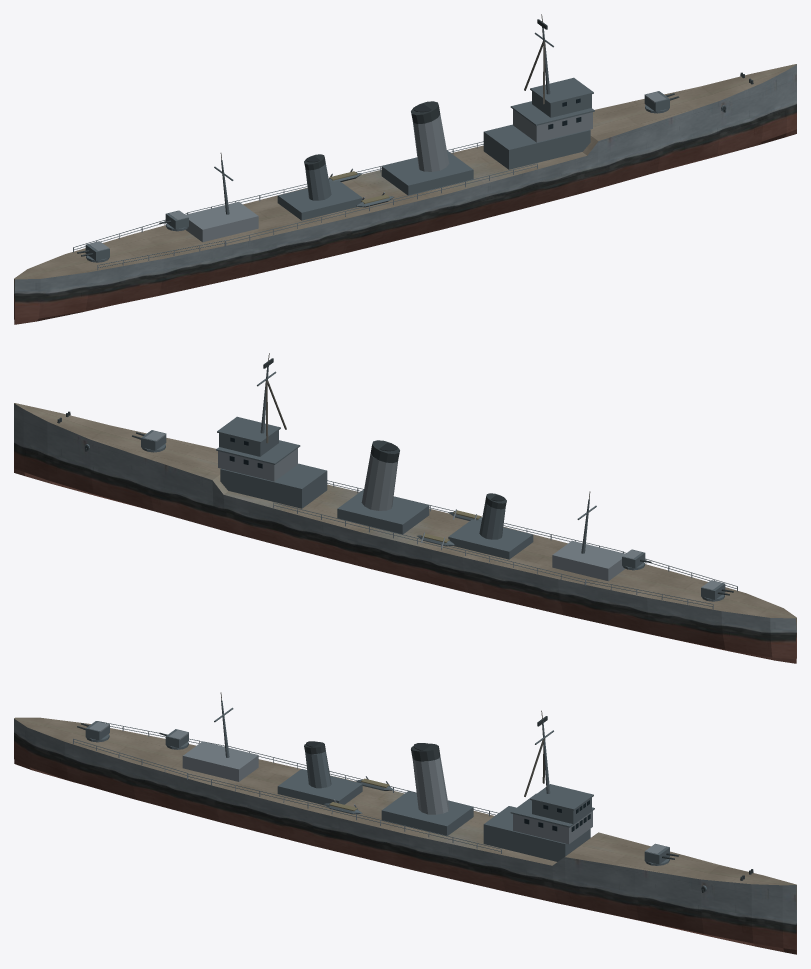
File: samidare.glb
3 views of the same model, one above another, from view 1: azimuth 30°, elevation 25°; view 2: azimuth 150°, elevation 25°; view 3: azimuth 330°, elevation 25° (orthographic).
Parts seen in each view (by area): view 1: hullPaint, deckPaint, shade, steel, dark; view 2: hullPaint, deckPaint, shade, steel, dark; view 3: hullPaint, deckPaint, shade, steel, dark.
Boxes of the visible parts, left/top/right/bottom form: hullPaint: left=14, top=64, right=796, bottom=324; deckPaint: left=14, top=64, right=796, bottom=279; shade: left=74, top=22, right=669, bottom=267; steel: left=14, top=92, right=666, bottom=293; dark: left=77, top=19, right=753, bottom=256; hullPaint: left=14, top=403, right=796, bottom=663; deckPaint: left=14, top=403, right=796, bottom=618; shade: left=141, top=361, right=736, bottom=606; steel: left=144, top=431, right=796, bottom=632; dark: left=57, top=358, right=733, bottom=595; hullPaint: left=14, top=718, right=796, bottom=954; deckPaint: left=14, top=717, right=796, bottom=885; shade: left=73, top=700, right=669, bottom=865; steel: left=73, top=722, right=796, bottom=922; dark: left=77, top=716, right=753, bottom=880.
Size of the model in its own units: 110 by 24.43 by 10.15.
14 materials, 2 textured.
